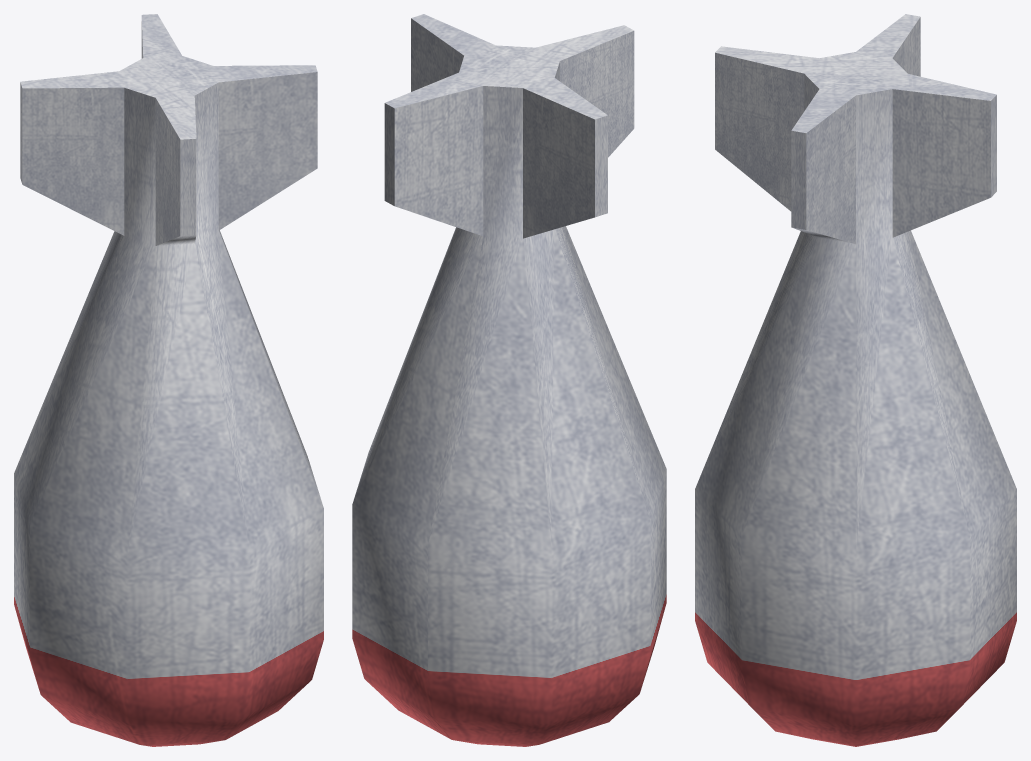
File: bomb.fbx
3 views of the same model, side by side, from view 1: azimuth 30°, elevation 25°; view 2: azimuth 150°, elevation 25°; view 3: azimuth 270°, elevation 25° (orthographic).
Parts seen in each view (by area): view 1: bomb; view 2: bomb; view 3: bomb.
Part boxes in pixels (<box>): bomb: <box>14,14,323,746</box>; bomb: <box>352,14,666,746</box>; bomb: <box>695,14,1016,746</box>.
Bounding box in the file's own units: 1.66 × 3.73 × 1.66.
1 material, 1 textured.
